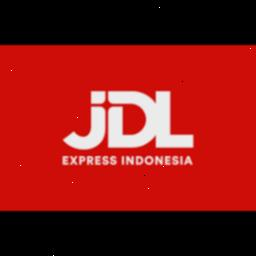a: (184, 154, 194, 168)
d: (107, 88, 155, 148), (136, 156, 144, 166)
e: (60, 154, 68, 166)
i: (120, 152, 124, 166)
j: (58, 87, 108, 155)
l: (155, 90, 195, 148)
n: (126, 154, 134, 166)
o: (144, 154, 154, 166)
p: (78, 155, 86, 167)
r: (86, 156, 94, 166)
s: (102, 155, 110, 167)
x: (70, 154, 78, 166)
